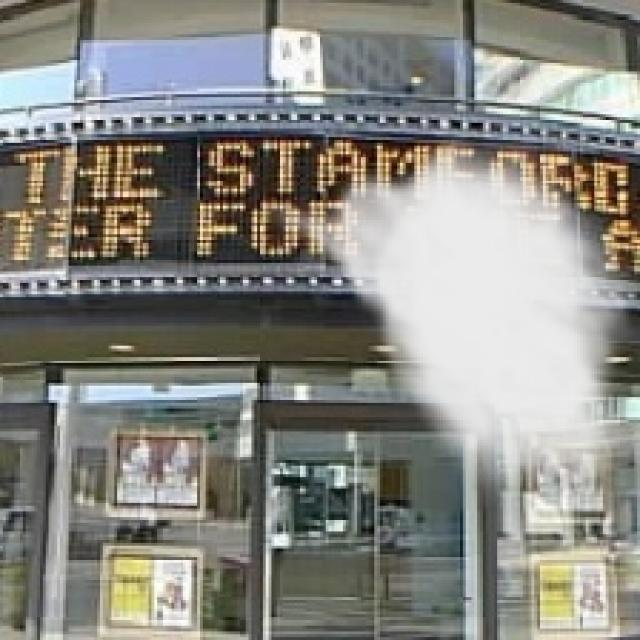smoke: (260, 126, 637, 514)
